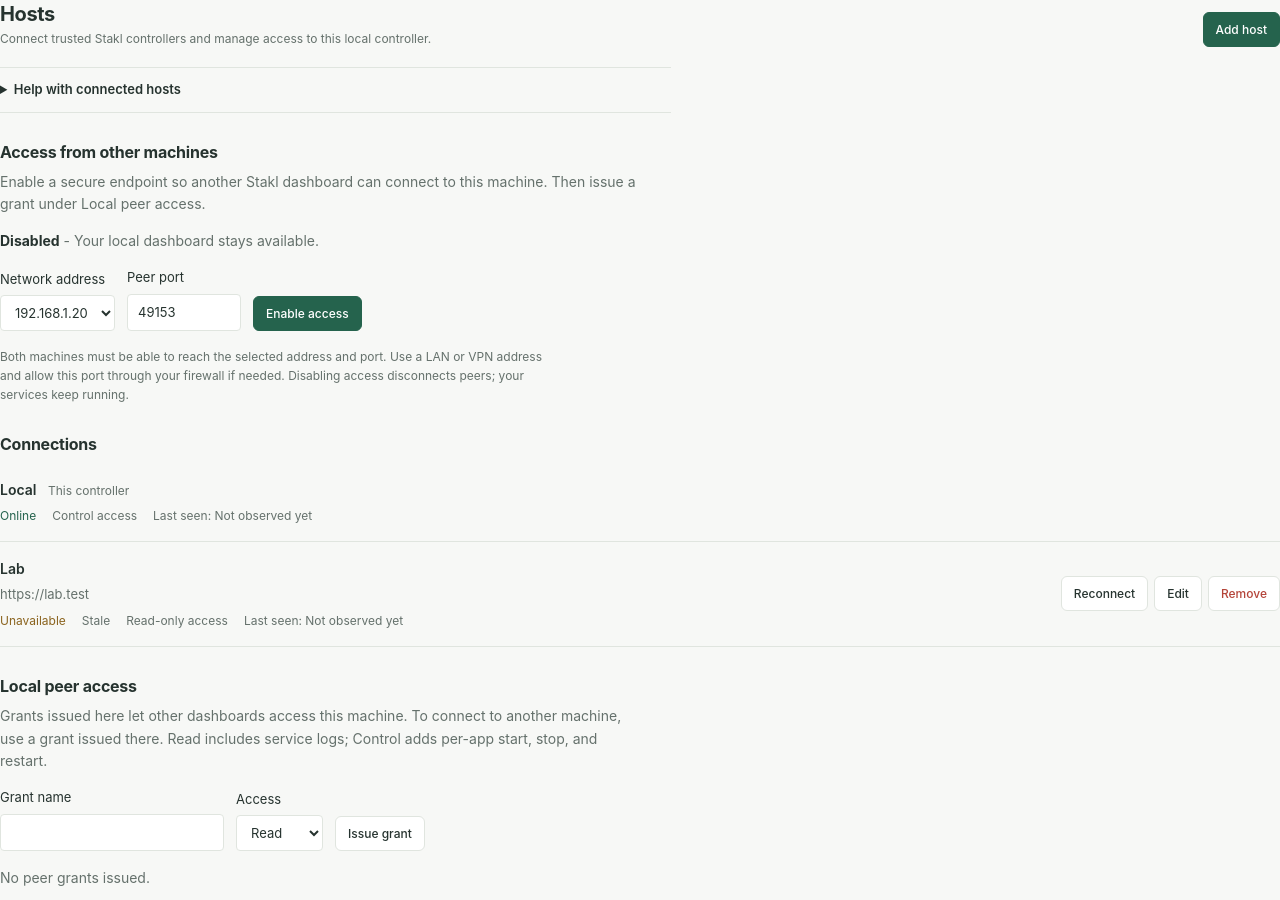
Test case: failed host edit preserves form
The width and height of the screenshot is (1280, 900).
Click the button with aria-label "Edit Lab" at [1178, 594], box [1154,576,1202,611]
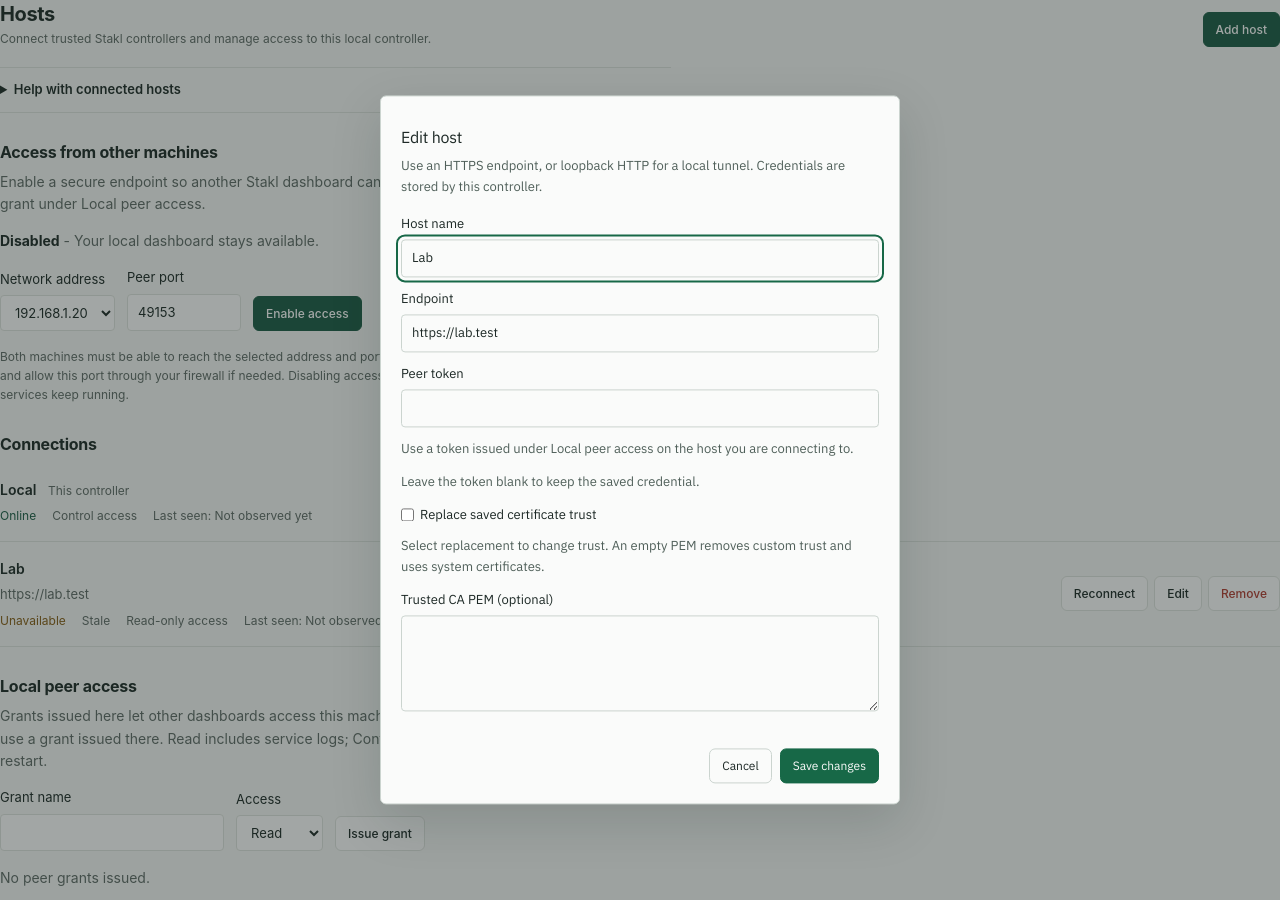
Type "private-token" into the password field labelled "Peer token" at [640, 409], box [401,390,879,427]
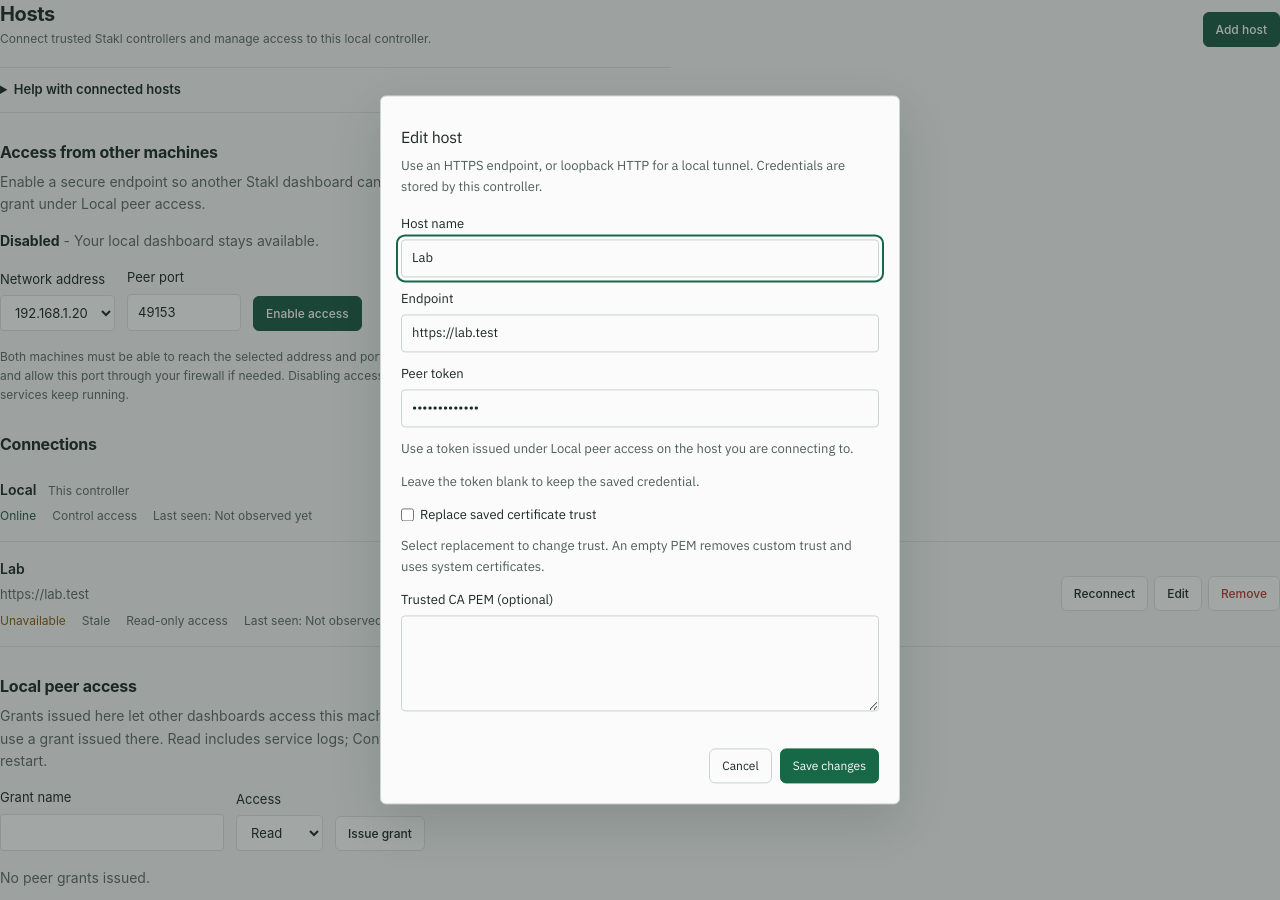
Replace the text in the field labelled "Host name" with "Retry lab" at [640, 259], box [401,240,879,277]
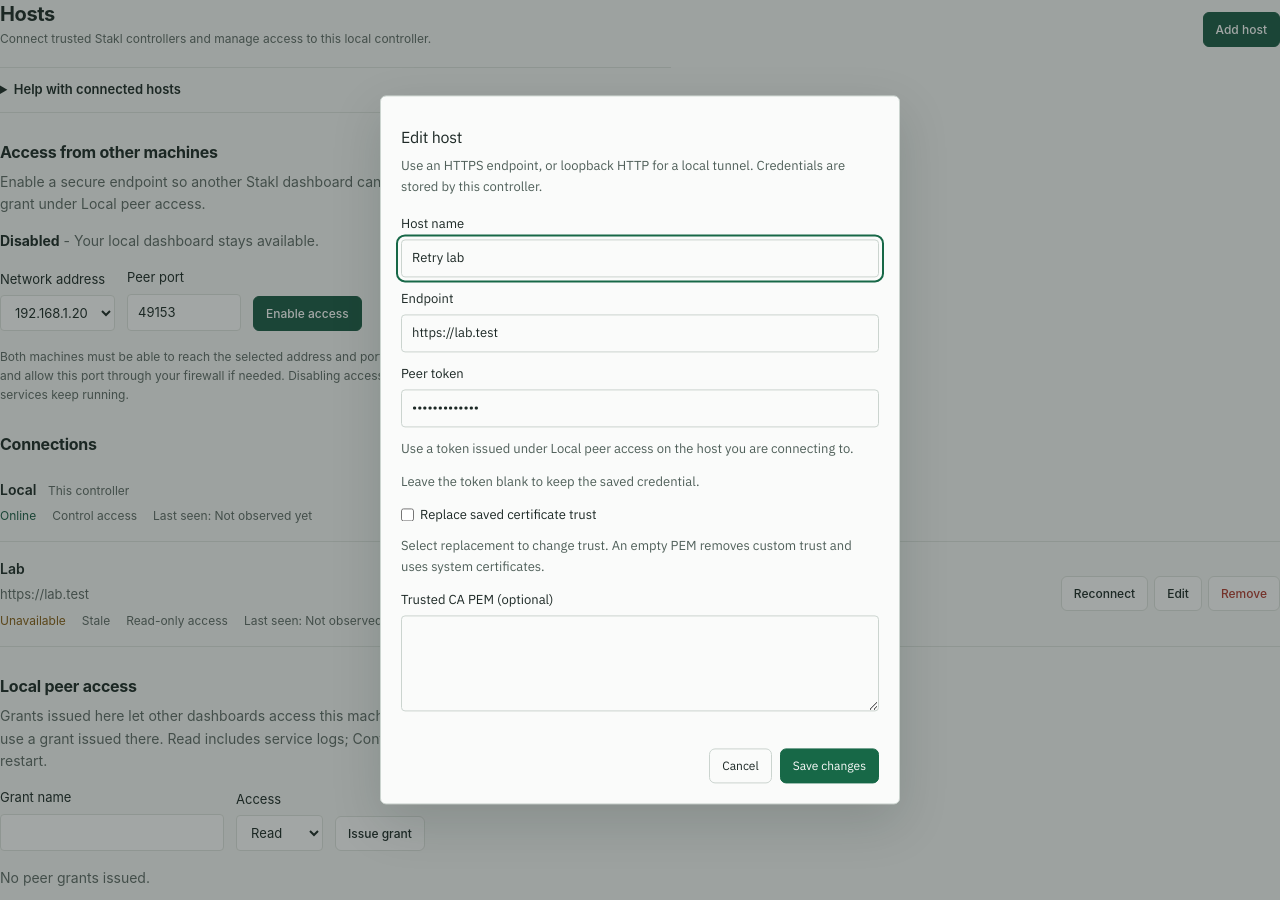
Click the button "Save changes" at [829, 766], box [780,749,879,784]
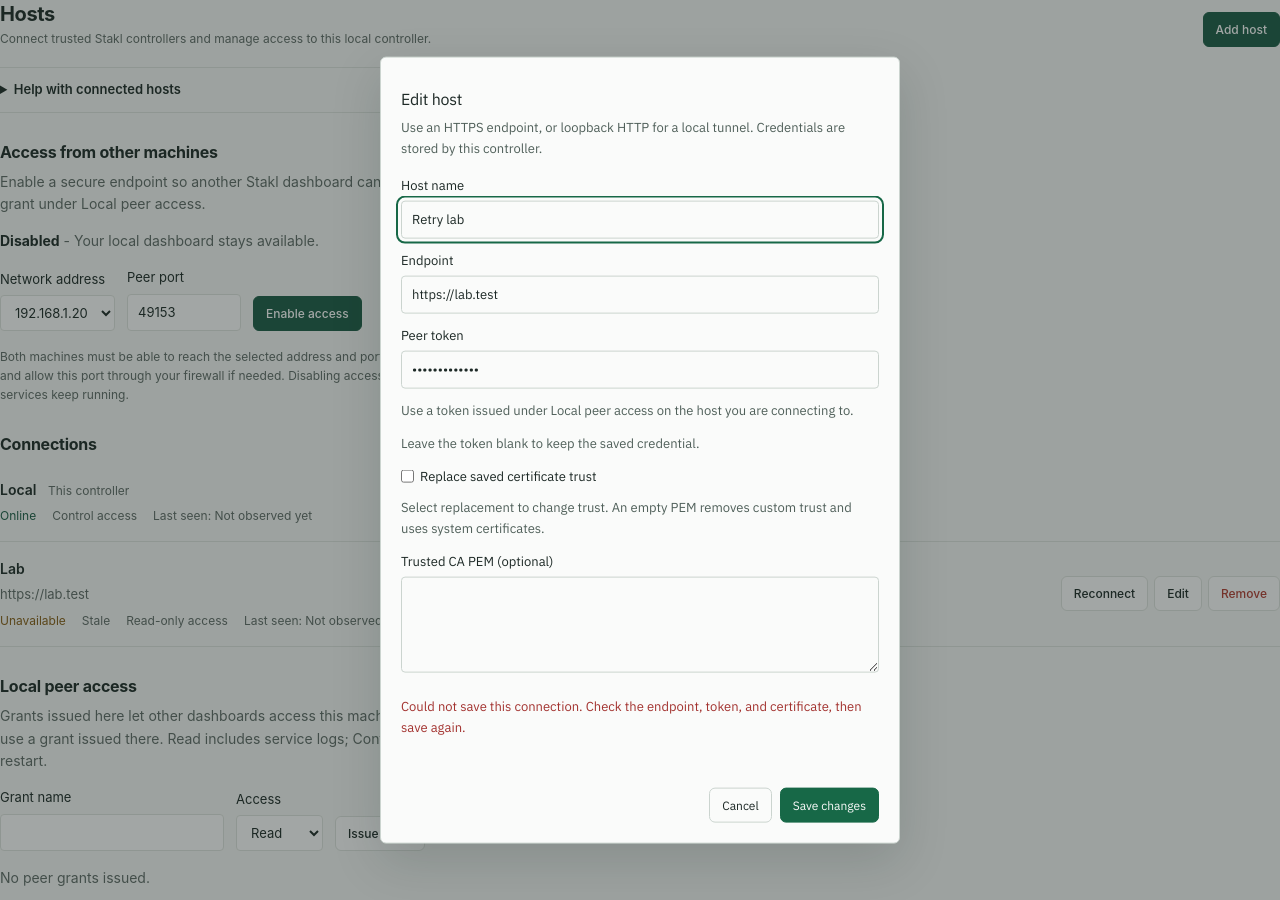
Check: the message does not show "private-token", box [401,697,879,738]
Check: the message shows "Check the endpoint, token, and certificate", box [401,698,862,736]
